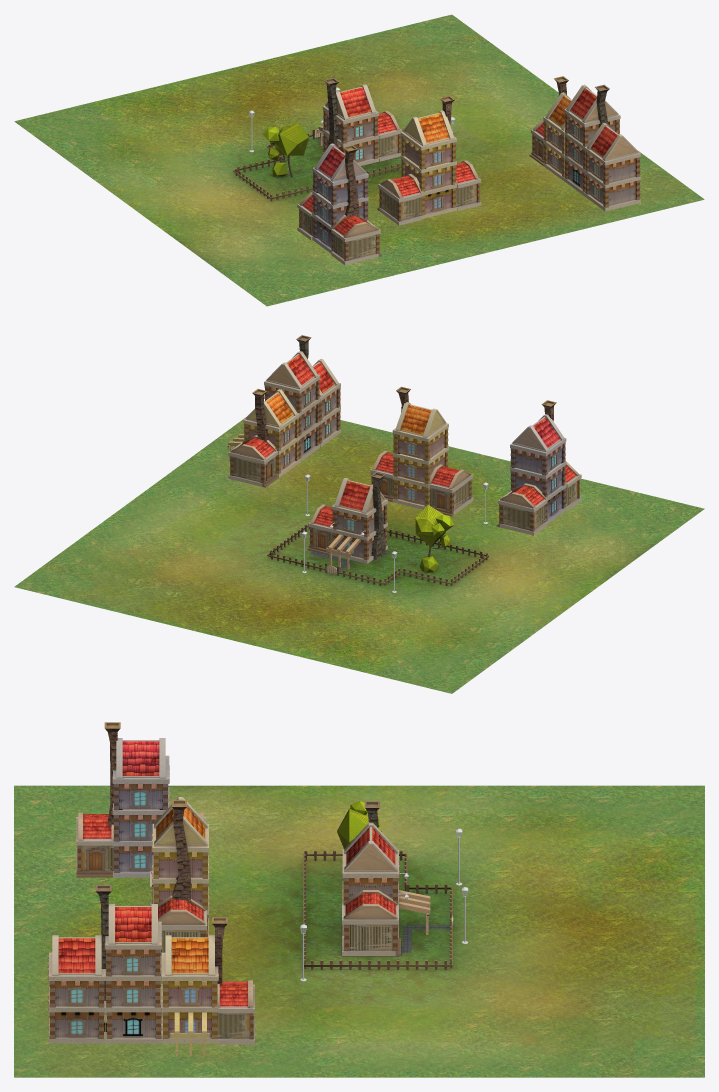
File: CartoonHouses.gltf
3 renders of one model, top to bottom at view 1: azimuth 30°, elevation 25°; view 2: azimuth 150°, elevation 25°; view 3: azimuth 270°, elevation 25°, orthographic. The views are drawn at different scales.
Parts seen in each view (by area): view 1: Sol, Object005, Object002, maison, Object007, maison002, rdc004, rdc003, maison001, arbre, rdc002, rdc (+4 smaller); view 2: Sol, Object005, maison, Object007, maison002, maison001, rdc005, rdc001, rdc003, cloture, Object002, arbre (+3 smaller); view 3: Sol, maison002, Object007, maison001, Object002, maison, Object005, rdc, rdc001, rdc004, cloture, rdc002 (+3 smaller).
Boxes of the visible parts, x1,y1,x2,y2 form: Sol: (14,14,704,306); Object005: (400,110,456,218); Object002: (584,123,640,211); maison: (317,78,378,165); Object007: (312,143,368,253); maison002: (564,84,620,195); rdc004: (331,215,382,264); rdc003: (377,174,423,225); maison001: (543,76,571,180); arbre: (263,123,309,177); rdc002: (454,160,481,211); rdc: (378,111,402,161); Sol: (14,417,704,693); Object005: (392,402,448,509); maison: (326,472,387,569); Object007: (510,414,566,523); maison002: (264,335,320,462); maison001: (227,389,299,477); rdc005: (496,483,547,535); rdc001: (228,435,278,487); rdc003: (429,464,473,516); cloture: (267,522,488,585); Object002: (312,359,340,447); arbre: (415,505,454,572); Sol: (14,785,704,1077); maison002: (95,885,162,1043); Object007: (112,738,169,877); maison001: (161,917,227,1055); Object002: (48,935,105,1043); maison: (342,801,430,938); Object005: (152,797,209,937); rdc: (342,890,400,955); rdc001: (215,980,254,1044); rdc004: (76,812,113,877); cloture: (303,850,452,969); rdc002: (158,895,206,961).
Size of the model in its own units: 7000 by 1627 by 7000.
Materials: 11 (8 with a texture image).
